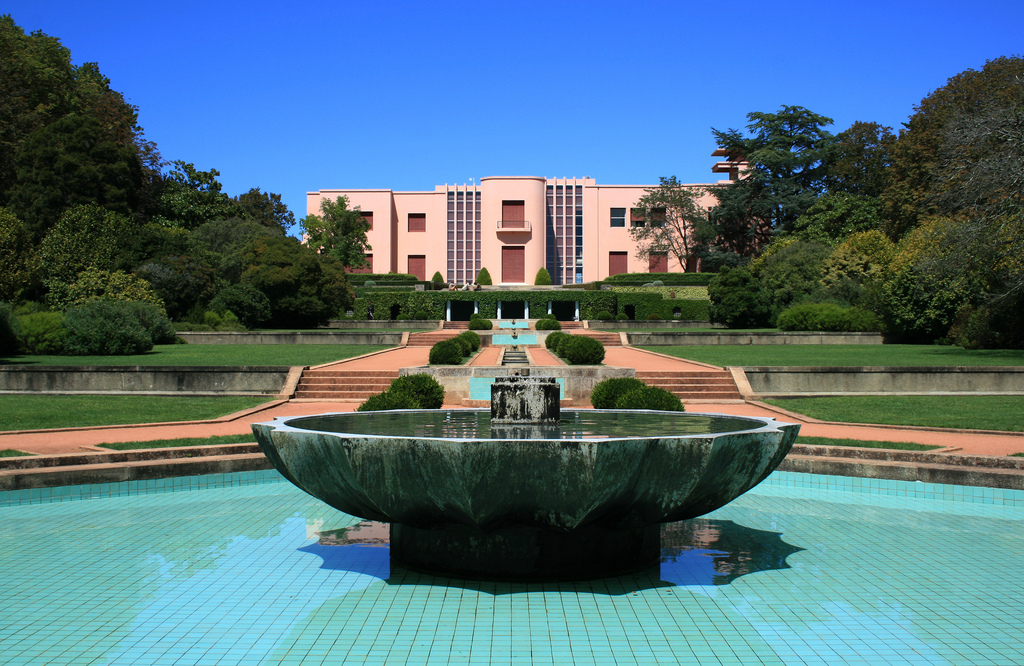serralves: (303, 139, 768, 285)
